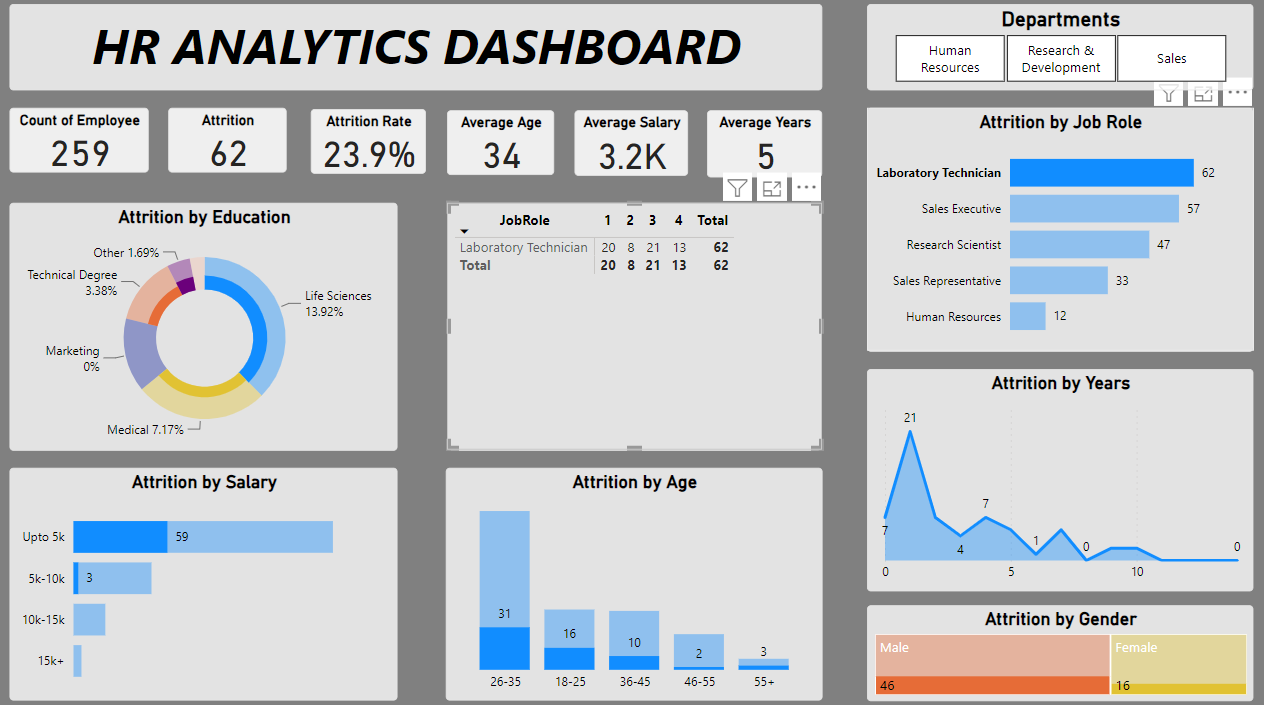

The dashboard page shown, as its layout file describes it:
{"tool":"powerbi","page":{"name":"Page 1","canvas":[1280,720],"ordinal":0},"visuals":[{"type":"card","title":"Count of Employee","fields":{"Values":["CountNonNull(HR_Analytics.EmpID)"]},"box":[17,113.8,139.4,64.9],"z":0},{"type":"card","title":"Attrition","fields":{"Values":["Sum(HR_Analytics.AttritionCount)"]},"box":[176.6,113.8,118.1,64.9],"z":1000},{"type":"card","title":"Attrition Rate","fields":{"Values":["HR_Analytics.AttritionRate"]},"box":[319.1,114.9,114.9,64.9],"z":2000},{"type":"card","title":"Average Age ","fields":{"Values":["Avg(HR_Analytics.Age)"]},"box":[455.3,116,107.4,64.9],"z":3000},{"type":"card","title":"Average Salary","fields":{"Values":["Avg(HR_Analytics.MonthlyIncome)"]},"box":[583,116,113.8,66],"z":4000},{"type":"card","title":"Average Years ","fields":{"Values":["Avg(HR_Analytics.YearsAtCompany)"]},"box":[714.9,116,114.9,67],"z":5000},{"type":"donutChart","title":"Attrition by Education","fields":{"Category":["HR_Analytics.EducationField"],"Y":["Sum(HR_Analytics.AttritionCount)"]},"box":[17,208.5,388.3,247.9],"z":6000},{"type":"columnChart","title":"Attrition by Age","fields":{"Category":["HR_Analytics.AgeGroup"],"Y":["Sum(HR_Analytics.AttritionCount)"]},"box":[453.2,473.4,376.6,233],"z":7000},{"type":"pivotTable","fields":{"Rows":["HR_Analytics.JobRole"],"Columns":["HR_Analytics.JobSatisfaction"],"Values":["Sum(HR_Analytics.AttritionCount)"]},"box":[455.3,208.5,374.5,247.9],"z":8000},{"type":"barChart","title":"Attrition by Salary","fields":{"Category":["HR_Analytics.SalarySlab"],"Y":["Sum(HR_Analytics.AttritionCount)"]},"box":[17,473.4,388.3,233],"z":9000},{"type":"barChart","title":"Attrition by Job Role","fields":{"Category":["HR_Analytics.JobRole"],"Y":["Sum(HR_Analytics.AttritionCount)"]},"box":[875.5,113.8,386.2,243.6],"z":10000},{"type":"areaChart","title":"Attrition by Years","fields":{"Category":["HR_Analytics.YearsAtCompany"],"Y":["Sum(HR_Analytics.AttritionCount)"]},"box":[875,375,386.2,222.5],"z":11000},{"type":"treemap","title":"Attrition by Gender","fields":{"Group":["HR_Analytics.Gender"],"Values":["Sum(HR_Analytics.AttritionCount)"]},"box":[875.5,610.6,386.2,95.7],"z":12000},{"type":"slicer","title":"Departments","fields":{"Values":["HR_Analytics.Department"]},"box":[875.5,9.6,386.2,86.2],"z":13000},{"type":"textbox","box":[17,9.6,812.8,86.2],"z":14000}]}

Visuals, with their boxes in screenshot pixels (x1, y1, x2, y2), scaled from the page's 1280x720 canvas onto the 1264x705 screenshot:
"Count of Employee" card: {"left": 17, "top": 111, "right": 154, "bottom": 175}
"Attrition" card: {"left": 174, "top": 111, "right": 291, "bottom": 175}
"Attrition Rate" card: {"left": 315, "top": 113, "right": 429, "bottom": 176}
"Average Age " card: {"left": 450, "top": 114, "right": 556, "bottom": 177}
"Average Salary" card: {"left": 576, "top": 114, "right": 688, "bottom": 178}
"Average Years " card: {"left": 706, "top": 114, "right": 819, "bottom": 179}
"Attrition by Education" donutChart: {"left": 17, "top": 204, "right": 400, "bottom": 447}
"Attrition by Age" columnChart: {"left": 448, "top": 464, "right": 819, "bottom": 692}
pivotTable - HR_Analytics.JobRole x HR_Analytics.JobSatisfaction: {"left": 450, "top": 204, "right": 819, "bottom": 447}
"Attrition by Salary" barChart: {"left": 17, "top": 464, "right": 400, "bottom": 692}
"Attrition by Job Role" barChart: {"left": 865, "top": 111, "right": 1246, "bottom": 350}
"Attrition by Years" areaChart: {"left": 864, "top": 367, "right": 1245, "bottom": 585}
"Attrition by Gender" treemap: {"left": 865, "top": 598, "right": 1246, "bottom": 692}
"Departments" slicer: {"left": 865, "top": 9, "right": 1246, "bottom": 94}
textbox: {"left": 17, "top": 9, "right": 819, "bottom": 94}
